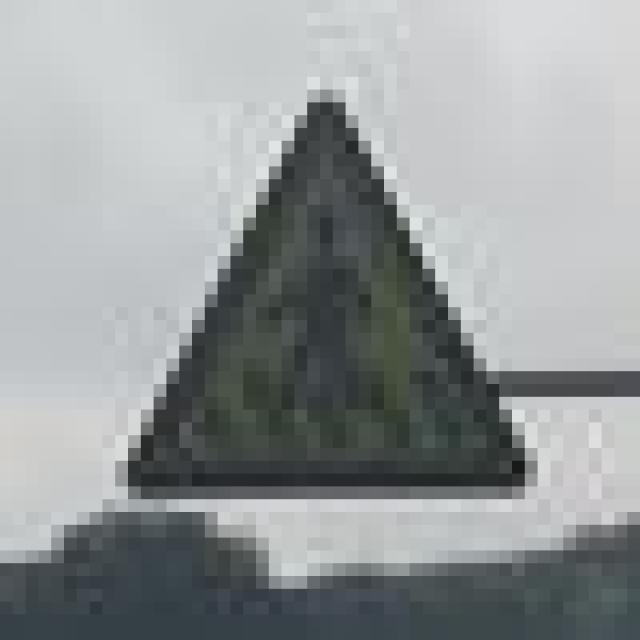pass_either_side: (102, 77, 525, 486)
